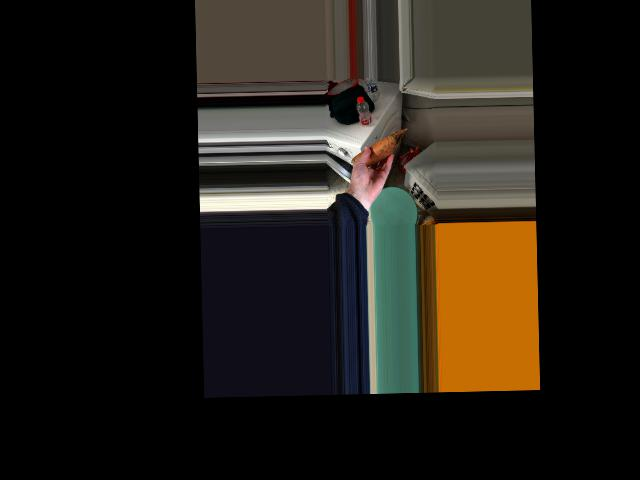sweet_potato: (357, 138, 393, 164)
